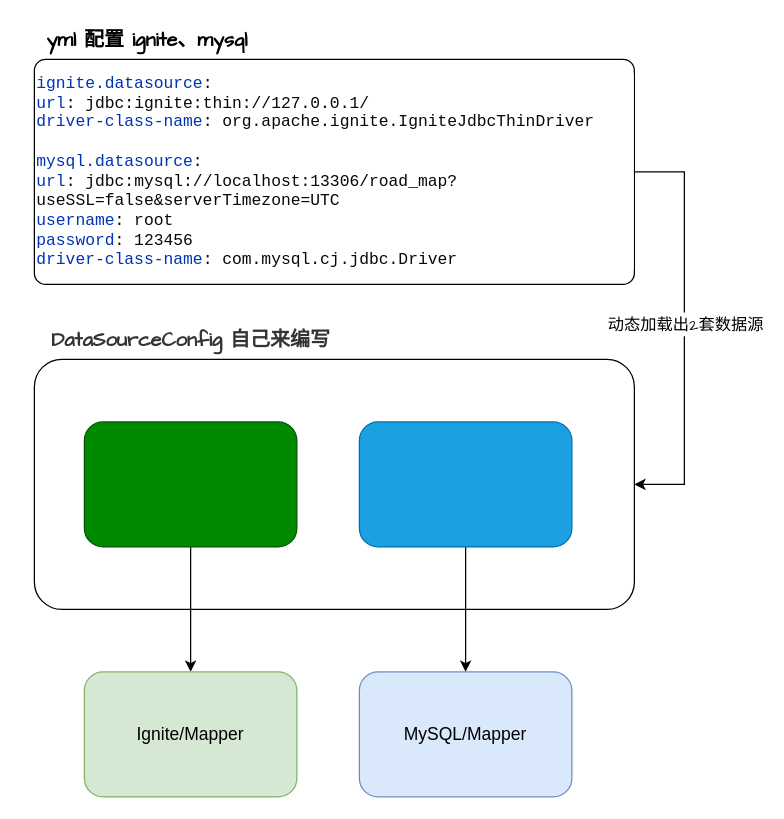
The diagram is 784 pixels wide and 819 high, and some of its shapes have lost their labels. The box of each missing label's shape, as (x1, y1, x2, y2) in pixels:
Ignite: (83, 421, 297, 547)
MySQL: (358, 421, 572, 547)
